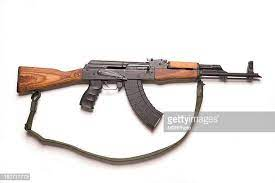gun: (12, 54, 262, 111)
